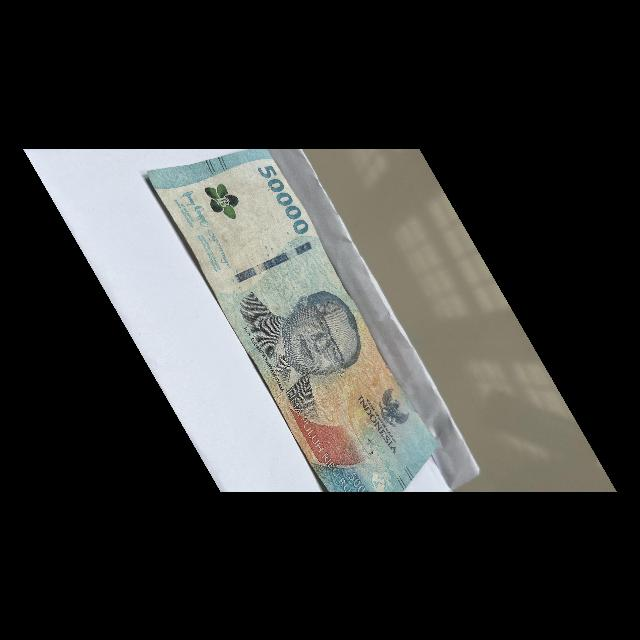Palsu-50k: (135, 108, 446, 512)
Tinta-Palsu-50k: (201, 174, 247, 227)
